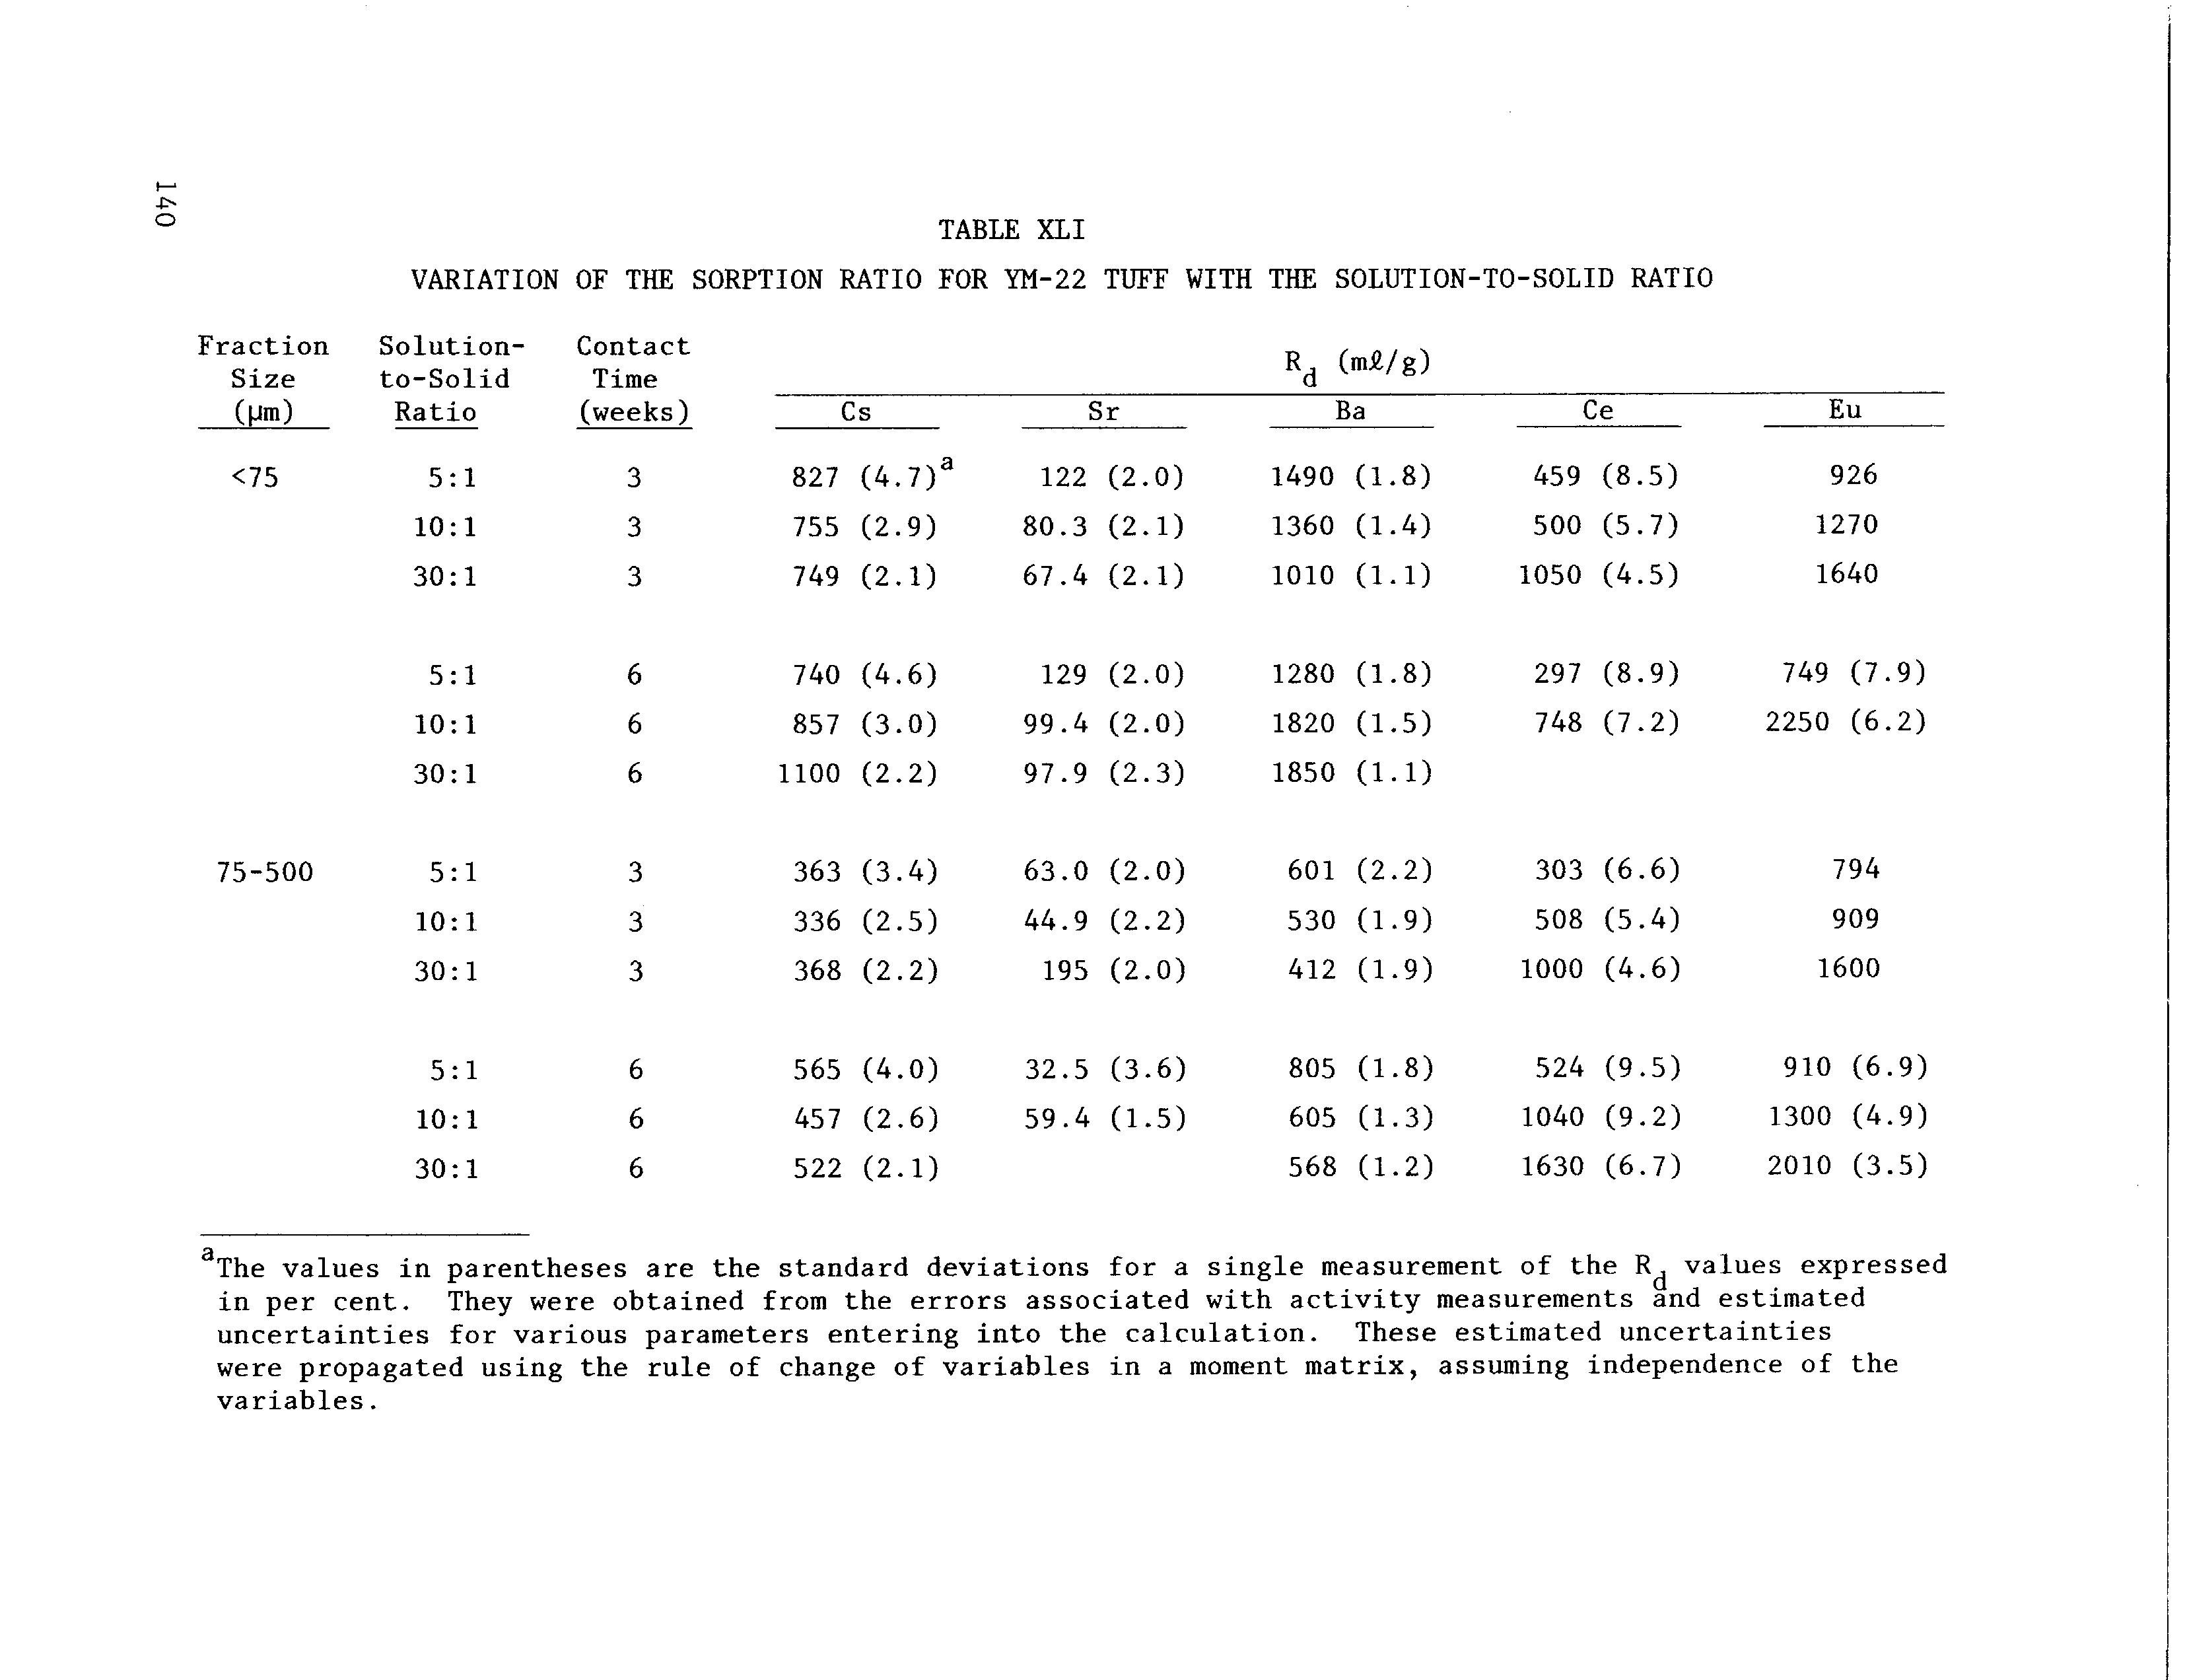borderless: (185, 210, 1959, 1417)
